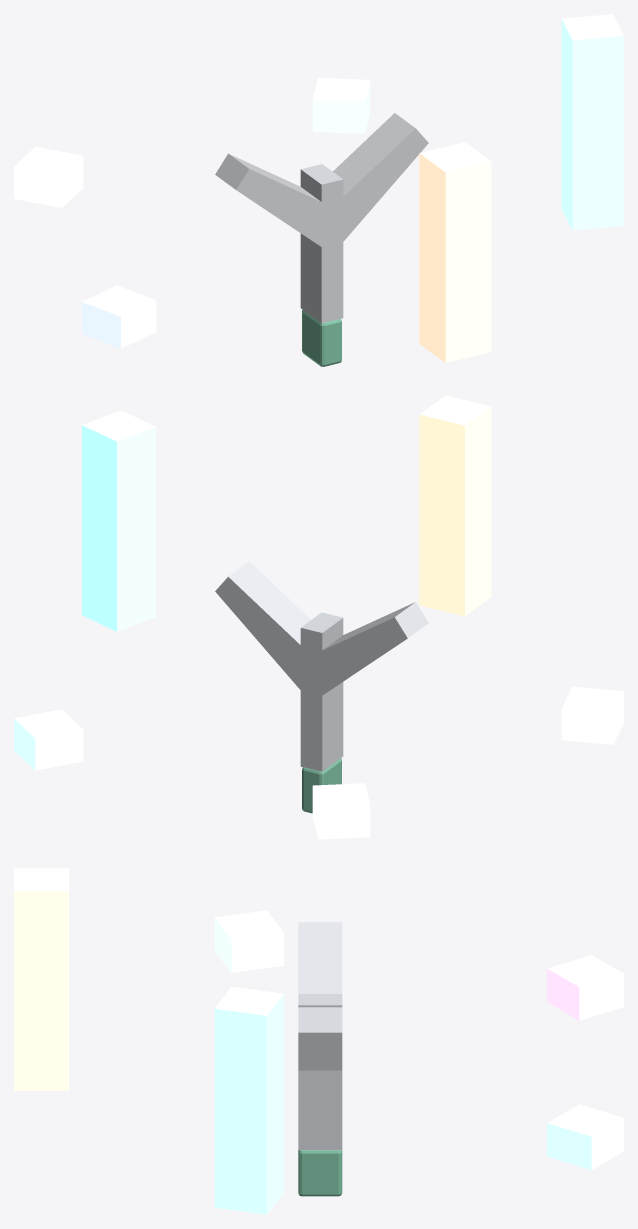
Rendered from turntable.glb.
The picture shows the model from 3 angles, top to bottom: view 1: azimuth 30°, elevation 25°; view 2: azimuth 150°, elevation 25°; view 3: azimuth 270°, elevation 25°; orthographic projection. The views are drawn at different scales.
Visible parts, largest first — view 1: psi-mark, cognition_update, belief_update, add_one, cognition_patch, costmap_stats; view 2: psi-mark, belief_update, cognition_update, costmap_stats, add_one, cognition_patch; view 3: belief_update, psi-mark, cognition_update, costmap_stats, cognition_patch, add_one.
Part boxes in pixels (bbox=[...]): psi-mark: bbox=[215, 113, 428, 366]; cognition_update: bbox=[419, 142, 491, 362]; belief_update: bbox=[561, 14, 623, 230]; add_one: bbox=[82, 285, 156, 348]; cognition_patch: bbox=[14, 146, 83, 207]; costmap_stats: bbox=[312, 77, 370, 133]; psi-mark: bbox=[215, 561, 428, 813]; belief_update: bbox=[82, 410, 156, 631]; cognition_update: bbox=[419, 395, 491, 616]; costmap_stats: bbox=[14, 709, 83, 770]; add_one: bbox=[561, 686, 623, 744]; cognition_patch: bbox=[312, 783, 370, 839]; belief_update: bbox=[214, 986, 283, 1214]; psi-mark: bbox=[298, 922, 342, 1196]; cognition_update: bbox=[14, 868, 68, 1090]; costmap_stats: bbox=[547, 1104, 623, 1169]; cognition_patch: bbox=[547, 955, 623, 1020]; add_one: bbox=[214, 910, 283, 972].
Size of the model in its own units: 1.75 by 0.9402 by 1.66.
